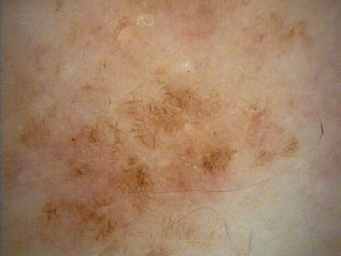nevus: (126, 86, 197, 140), (37, 192, 113, 242), (202, 145, 239, 175), (122, 150, 151, 187), (67, 159, 99, 177)
